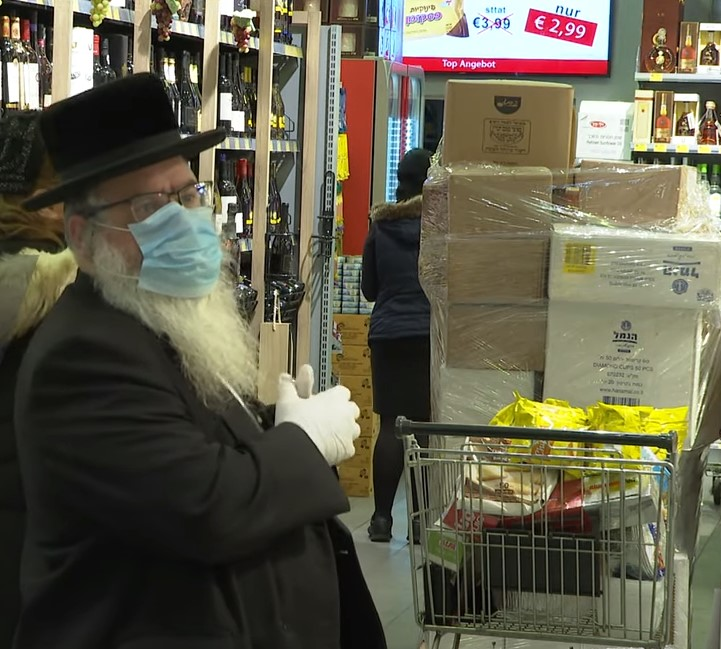face_with_mask: (19, 68, 230, 310)
